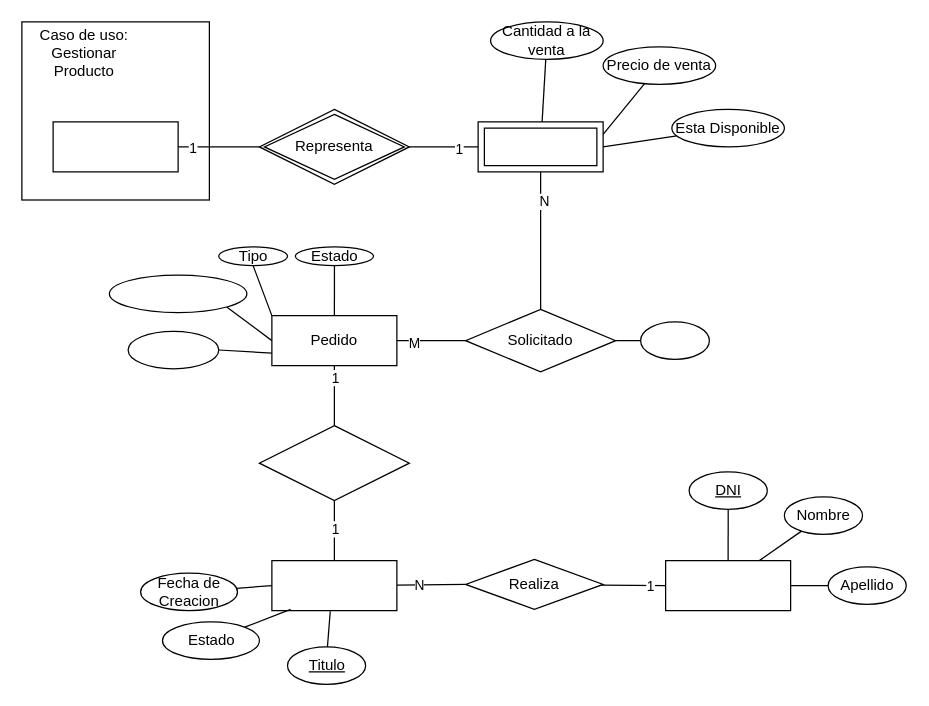
Some shapes in this 929 by 706 pixel diagram are drawn without their labels. The shapes that lost their labels are listed below. From the top down, each one's centre as x and y in pixels, then its label:
At (x=115, y=146): "Producto".
At (x=540, y=146): "Producto a la Venta".
At (x=177, y=293): "Momento de creacion".
At (x=173, y=349): "Numero".
At (x=674, y=340): "Cantidad".
At (x=333, y=462): "Realizado Mediante".
At (x=334, y=585): "Consulta".
At (x=727, y=585): "Usuario".
